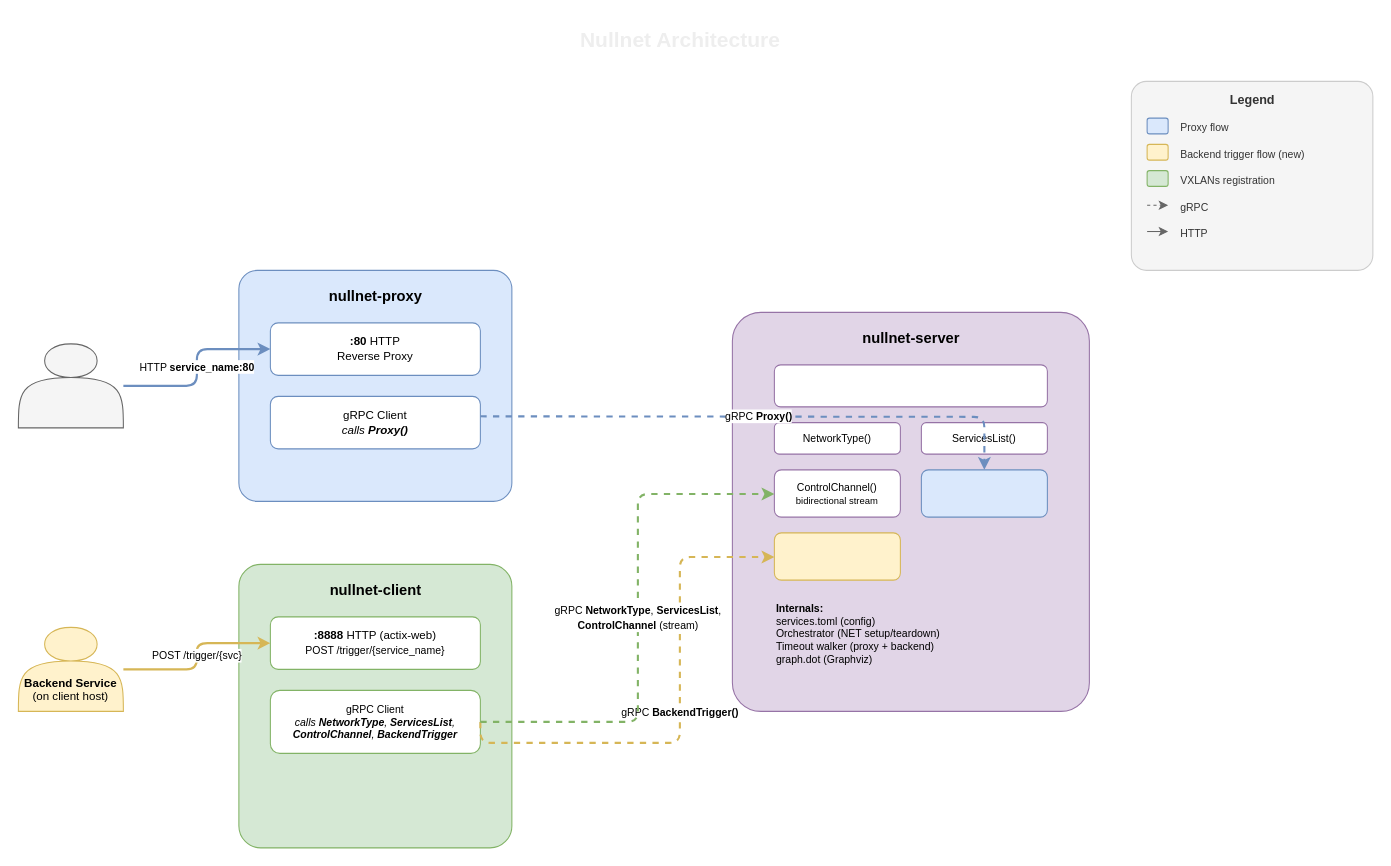
Some shapes in this 1391 by 866 pixel diagram are drawn without their labels. The shapes that lost their labels are listed below. From the top down, each one's centre as x and y in pixels, then its label:
(x=70, y=385): External Client (browser / curl)
(x=910, y=385): :50051 gRPC / HTTP2
(x=983, y=493): Proxy() → Upstream{ip, port}
(x=836, y=556): BackendTrigger() → Empty (ack)
